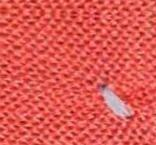hole: (97, 82, 137, 122)
